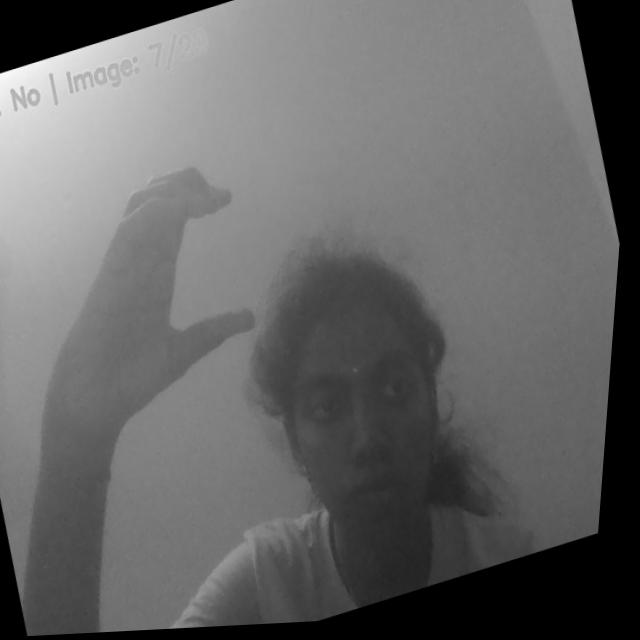No: (4, 147, 289, 439)
